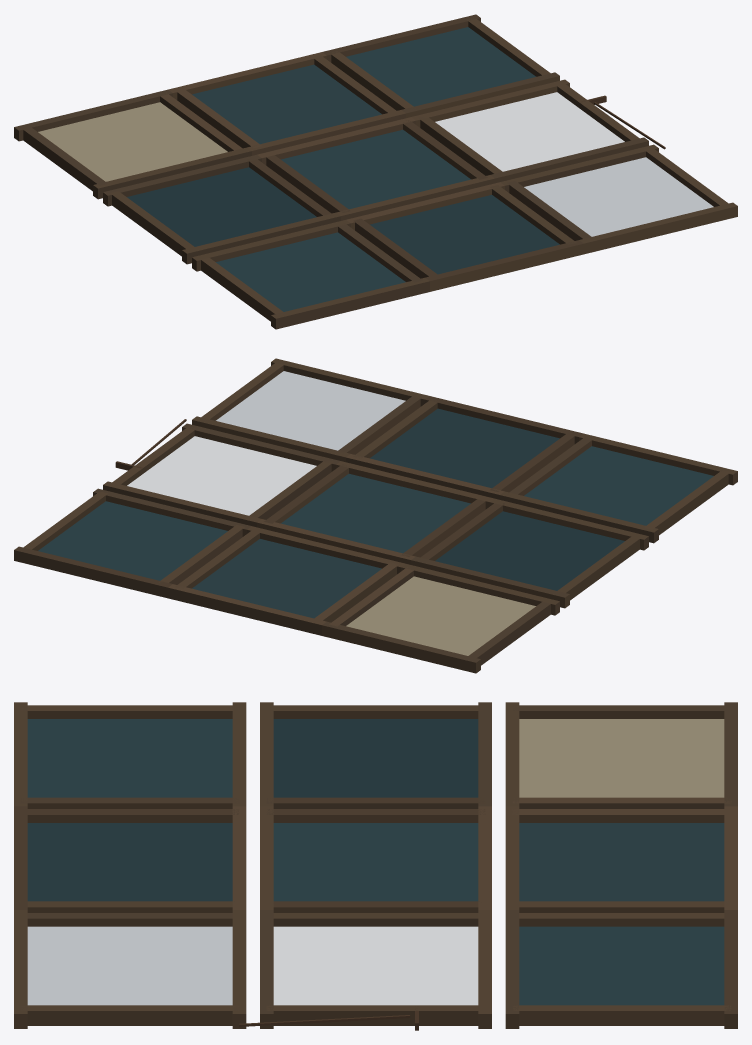
The model's file is walk_prop_salt_pans.glb.
3 renders of one model, top to bottom at view 1: azimuth 30°, elevation 25°; view 2: azimuth 150°, elevation 25°; view 3: azimuth 270°, elevation 25°, orthographic. The views are drawn at different scales.
Visible parts, largest first — view 1: walk_prop_salt_pans; view 2: walk_prop_salt_pans; view 3: walk_prop_salt_pans.
Part boxes in pixels (x1,y1,x2,y2): walk_prop_salt_pans: [14, 14, 737, 329]; walk_prop_salt_pans: [14, 358, 737, 673]; walk_prop_salt_pans: [14, 702, 737, 1030].
Size of the model in its own units: 11.12 by 0.24 by 10.6.
Materials: 1 (1 with a texture image).
